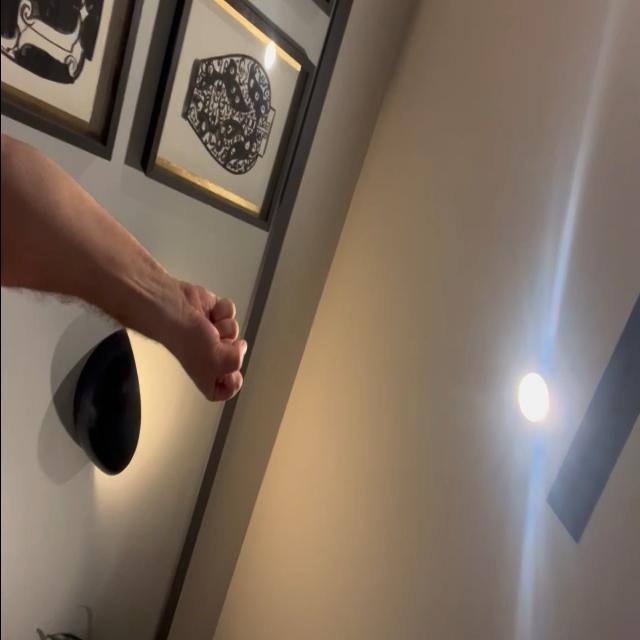Rock: (177, 280, 247, 404)
